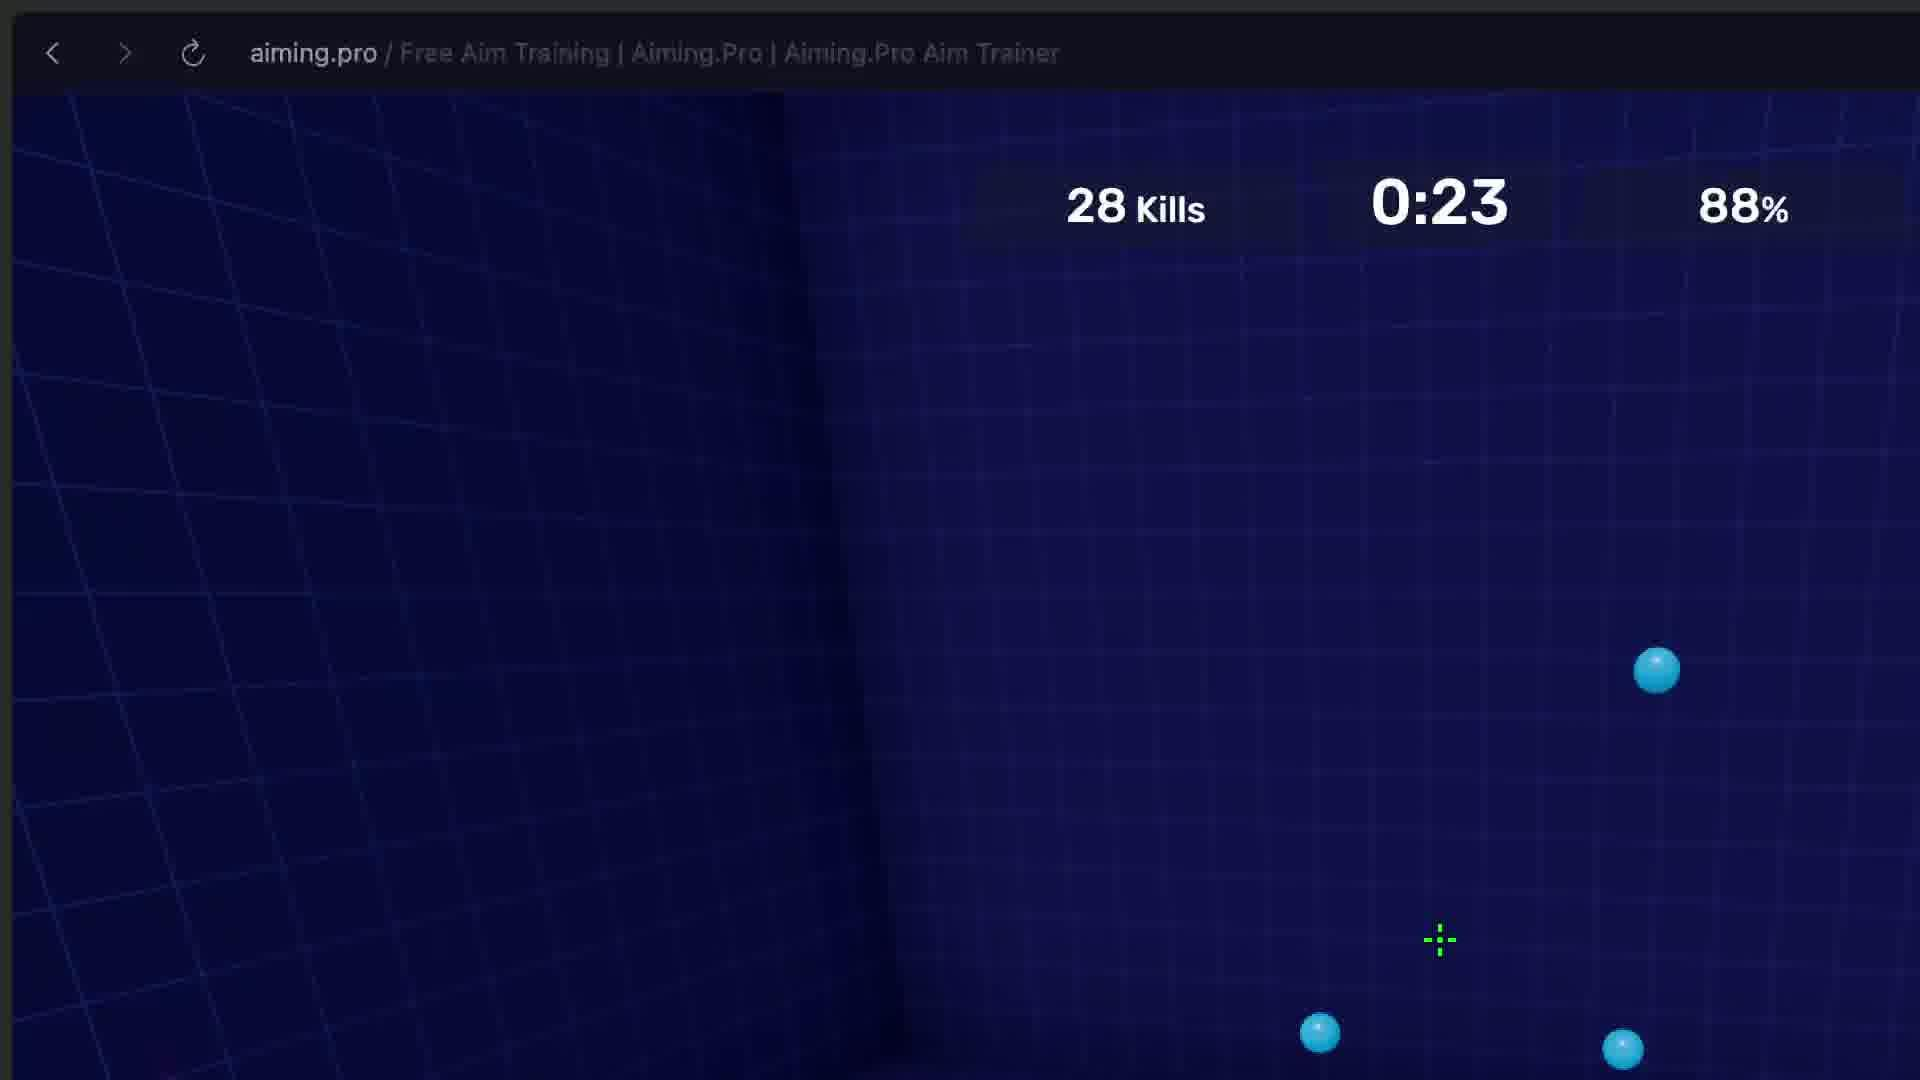target: (1634, 646, 1679, 694), (1602, 1029, 1644, 1069), (1302, 1013, 1341, 1054), (1423, 924, 1456, 944)
